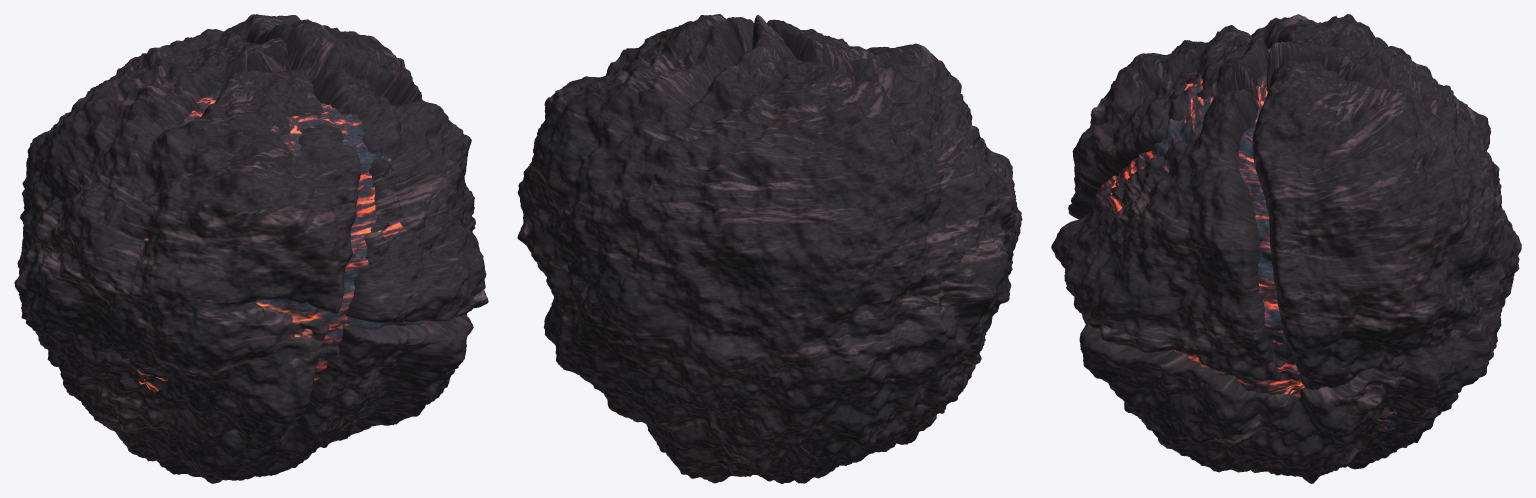
Rendered from GZ186_Vesuvius_ANIMATED_GamePreview_2K.glb.
3 views of the same model, side by side, from view 1: azimuth 30°, elevation 25°; view 2: azimuth 150°, elevation 25°; view 3: azimuth 270°, elevation 25° (orthographic). The views are drawn at different scales.
Visible parts, largest first — view 1: SM_GZ186_Vesuvius_GamePreview_2K; view 2: SM_GZ186_Vesuvius_GamePreview_2K; view 3: SM_GZ186_Vesuvius_GamePreview_2K.
Part boxes in pixels (box(x1,y1,x2,y2)): SM_GZ186_Vesuvius_GamePreview_2K: box(14, 14, 488, 483); SM_GZ186_Vesuvius_GamePreview_2K: box(517, 14, 1022, 483); SM_GZ186_Vesuvius_GamePreview_2K: box(1051, 14, 1521, 483).
Size of the model in its own units: 0.7388 by 0.6855 by 0.6848.
Materials: 2 (2 with a texture image).
